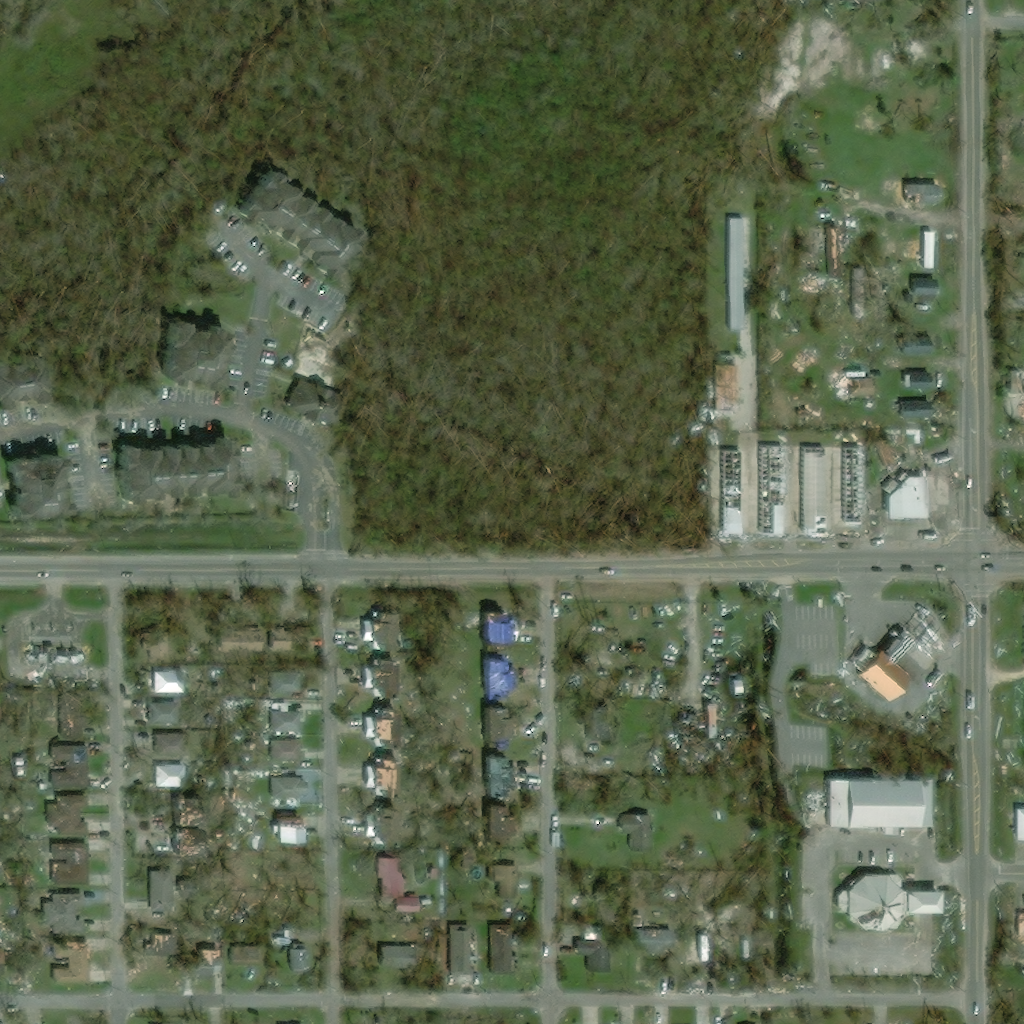major_damage: (857, 609, 941, 702), (836, 873, 910, 933), (799, 445, 827, 536), (760, 446, 788, 536), (719, 448, 745, 537), (841, 445, 864, 526), (23, 645, 90, 666), (683, 706, 718, 738)
minor_damage: (802, 778, 935, 834), (481, 754, 522, 804), (47, 942, 90, 988), (42, 894, 87, 937), (479, 610, 521, 654), (48, 796, 90, 838), (52, 745, 89, 791), (479, 659, 521, 699), (362, 755, 401, 798), (711, 355, 739, 414), (52, 843, 88, 887), (481, 709, 523, 745), (362, 659, 398, 698), (364, 806, 398, 847), (365, 707, 396, 749), (448, 926, 472, 974), (187, 949, 222, 980), (367, 620, 402, 651), (490, 926, 511, 976), (59, 700, 85, 739), (901, 182, 941, 207), (175, 829, 206, 856), (176, 799, 207, 826), (276, 816, 300, 842), (144, 936, 174, 956), (827, 226, 838, 274), (850, 379, 874, 397), (633, 929, 652, 949), (288, 947, 303, 972)
no_damage: (236, 167, 360, 275), (108, 435, 235, 508), (157, 318, 228, 387), (873, 441, 929, 521), (3, 454, 69, 518), (283, 379, 343, 428), (0, 354, 52, 409), (725, 217, 747, 332), (378, 858, 420, 914), (574, 940, 613, 972), (624, 815, 654, 852), (482, 807, 514, 840), (491, 858, 516, 899), (150, 871, 174, 913), (271, 705, 304, 735), (274, 773, 310, 800), (876, 48, 896, 96), (586, 705, 608, 742), (380, 946, 412, 969), (919, 230, 937, 270), (228, 946, 261, 967), (275, 673, 305, 696), (897, 393, 934, 411), (149, 673, 180, 694), (847, 644, 873, 669), (139, 633, 168, 655), (911, 274, 939, 296), (158, 734, 186, 756), (901, 339, 935, 357), (904, 372, 937, 390), (273, 742, 302, 762), (159, 766, 186, 787), (183, 609, 206, 633), (151, 703, 179, 722), (295, 628, 316, 652), (268, 856, 289, 879), (204, 907, 222, 932), (831, 369, 847, 387), (1015, 809, 1023, 842), (1014, 372, 1023, 397), (1016, 909, 1023, 936), (681, 944, 691, 960), (787, 0, 813, 6), (285, 924, 294, 940), (429, 867, 438, 881), (459, 859, 469, 869), (0, 855, 3, 878), (21, 769, 28, 776), (42, 784, 50, 790), (20, 759, 26, 765)
